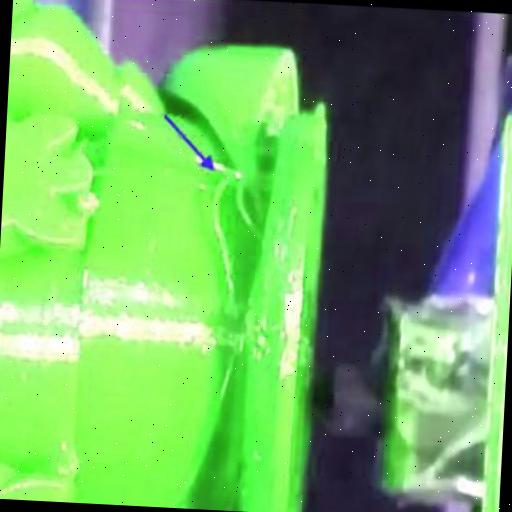spaghetti: (198, 166, 282, 337)
